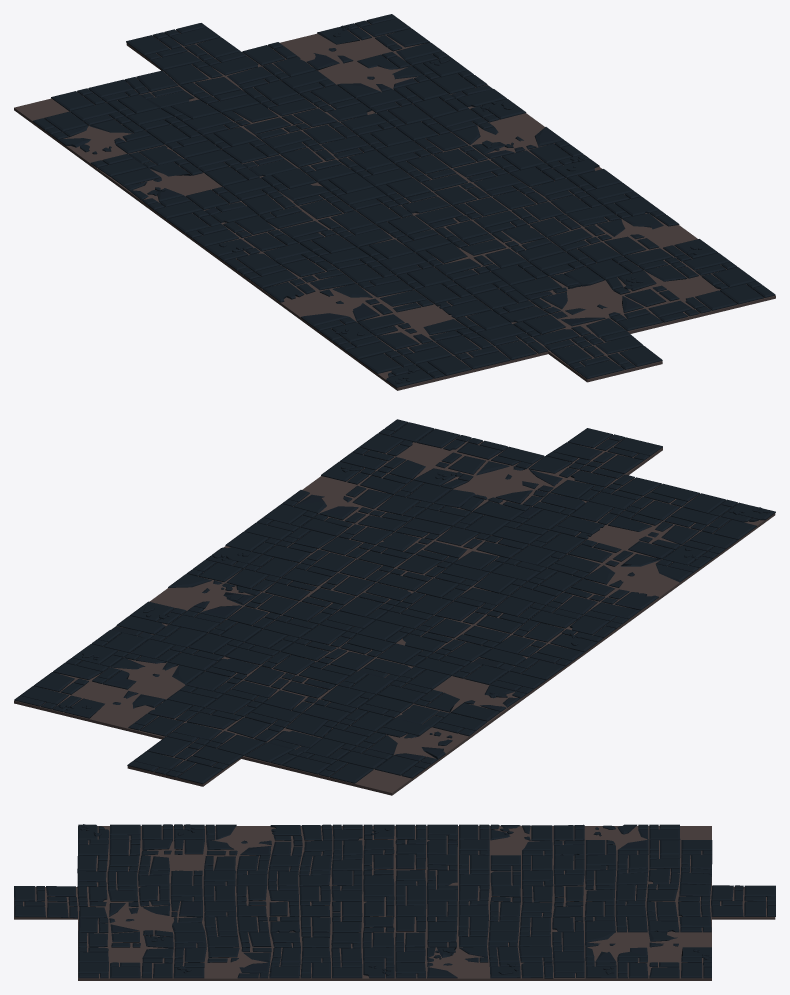
The model's file is GroundStoneSlabsNew_02.fbx.
3 renders of one model, top to bottom at view 1: azimuth 30°, elevation 25°; view 2: azimuth 150°, elevation 25°; view 3: azimuth 270°, elevation 25°, orthographic. The views are drawn at different scales.
Parts seen in each view (by area): view 1: StoneSlabs_03, Ground_03, StoneSlabsSmall_03; view 2: StoneSlabs_03, Ground_03, StoneSlabsSmall_03; view 3: StoneSlabs_03, Ground_03, StoneSlabsSmall_03.
Boxes of the visible parts, x1,y1,x2,y2 form: StoneSlabs_03: (32,14,775,387); Ground_03: (14,22,775,390); StoneSlabsSmall_03: (80,24,702,383); StoneSlabs_03: (14,419,775,783); Ground_03: (14,432,775,795); StoneSlabsSmall_03: (58,465,770,745); StoneSlabs_03: (14,824,775,978); Ground_03: (14,826,775,980); StoneSlabsSmall_03: (80,824,709,975).
Bounding box in the file's own units: 1600 × 24.27 × 3366.
